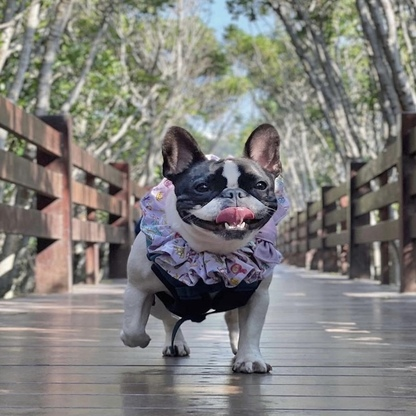bulldog: (118, 121, 285, 378)
